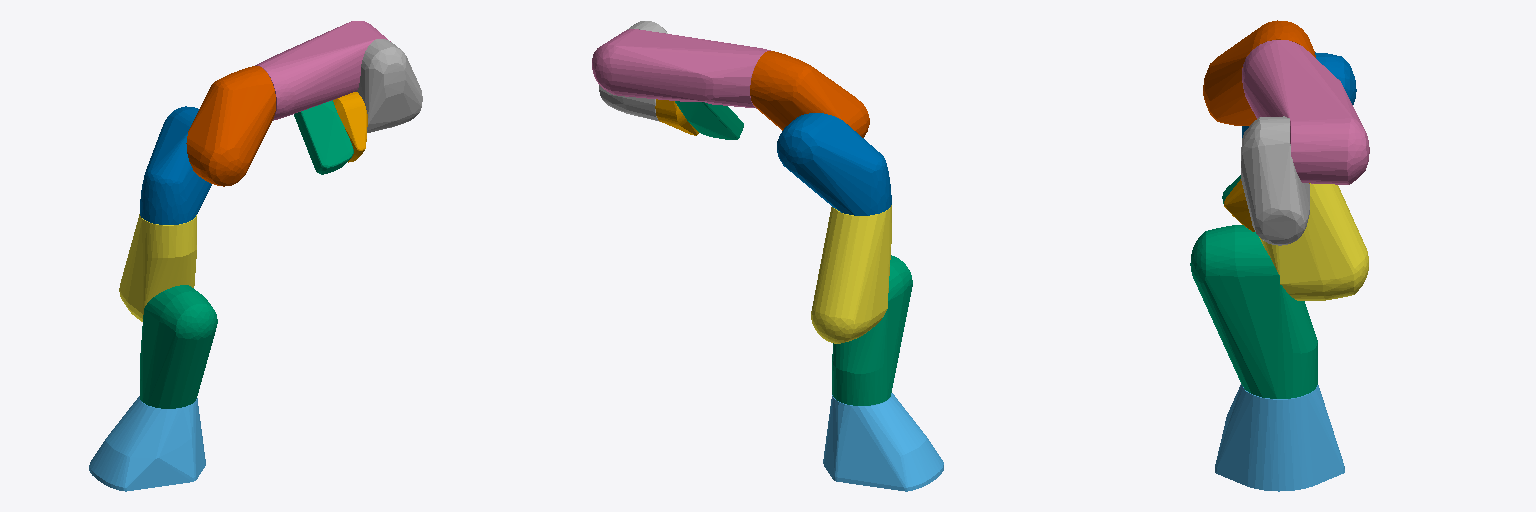
The robot description file, URDF, robot "fer":
<?xml version="1.0" ?>
<!-- =================================================================================== -->
<!-- |    This document was autogenerated by xacro from [local-path]/ws/franka/src/franka_description/robots/fer/fer.urdf.xacro | -->
<!-- |    EDITING THIS FILE BY HAND IS NOT RECOMMENDED                                 | -->
<!-- =================================================================================== -->
<robot name="fer">
  <!-- safety_distance: Minimum safety distance in [m] by which the collision volumes are expanded and which is enforced during robot motions -->
  <!-- arm_id: Namespace of the robot arm. Serves to differentiate between arms in case of multiple instances. -->
  <!-- joint_limits: description of the joint limits that comes from a YAML file. Example definition: ${xacro.load_yaml('$(find franka_description)/robots/fr3/joint_limits.yaml')} -->
  <!-- kinematics: description of the kinematics that comes from a YAML file. Example definition: ${xacro.load_yaml('$(find franka_description)/robots/fr3/kinematics.yaml')} -->
  <!-- inertials: description of the inertials that comes from a YAML file. Example definition: ${xacro.load_yaml('$(find franka_description)/robots/fr3/inertials.yaml')} -->
  <!-- dynamics: description of the dynamics that comes from a YAML file. Example definition: ${xacro.load_yaml('$(find franka_description)/robots/fr3/dynamics.yaml')} -->
  <link name="base">
      </link>
  <joint name="base_joint" type="fixed">
    <parent link="base"/>
    <child link="fer_link0"/>
    <origin rpy="0 0 0" xyz="0 0 0"/>
  </joint>
  <!-- sub-link defining detailed meshes for collision with environment -->
  <link name="fer_link0">
    <visual name="fer_link0_visual">
      <geometry>
        <mesh filename="package://franka_description/meshes/robot_arms/fer/visual/link0.dae"/>
      </geometry>
    </visual>
    
    <collision name="fer_link0_collision">
      <geometry>
        <mesh filename="package://franka_description/meshes/robot_arms/fer/collision/link0.obj"/>
      </geometry>
    </collision>
    <inertial>
      <origin rpy="0 0 0" xyz="-0.0172 0.0004 0.0745"/>
      <mass value="2.3966"/>
      <inertia ixx="0.009" ixy="0.0" ixz="0.002" iyy="0.0115" iyz="0.0" izz="0.0085"/>
    </inertial>
  </link>
  <!-- sub-link defining detailed meshes for collision with environment -->
  <link name="fer_link1">
    <visual name="fer_link1_visual">
      <geometry>
        <mesh filename="package://franka_description/meshes/robot_arms/fer/visual/link1.dae"/>
      </geometry>
    </visual>
    <collision name="fer_link1_collision">
      <geometry>
        <mesh filename="package://franka_description/meshes/robot_arms/fer/collision/link1.obj"/>
      </geometry>
    </collision>
    <inertial>
      <origin rpy="0 0 0" xyz="0.00033 -0.02204 -0.04762"/>
      <mass value="2.7907"/>
      <inertia ixx="0.01564782655" ixy="5.31236e-06" ixz="-3.676721e-05" iyy="0.01439883526" iyz="-0.00248480843" izz="0.00500443991"/>
    </inertial>
  </link>
  <joint name="fer_joint1" type="revolute">
    <origin rpy="0 0 0" xyz="0 0 0.333"/>
    <parent link="fer_link0"/>
    <child link="fer_link1"/>
    <axis xyz="0 0 1"/>
    <limit effort="87.0" lower="-2.8973" upper="2.8973" velocity="2.175"/>
    <safety_controller k_position="100.0" k_velocity="40.0" soft_lower_limit="-2.8973" soft_upper_limit="2.8973"/>
    <dynamics D="1" K="7000" damping="0.003" friction="0.2" mu_coulomb="0" mu_viscous="16"/>
  </joint>
  <!-- sub-link defining detailed meshes for collision with environment -->
  <link name="fer_link2">
    <visual name="fer_link2_visual">
      <geometry>
        <mesh filename="package://franka_description/meshes/robot_arms/fer/visual/link2.dae"/>
      </geometry>
    </visual>
    <collision name="fer_link2_collision">
      <geometry>
        <mesh filename="package://franka_description/meshes/robot_arms/fer/collision/link2.obj"/>
      </geometry>
    </collision>
    <inertial>
      <origin rpy="0 0 0" xyz="0.00038 -0.09211 0.01908"/>
      <mass value="2.542"/>
      <inertia ixx="0.01662427728" ixy="3.086077e-05" ixz="8.3594e-06" iyy="0.00462501261" iyz="0.0035589983" izz="0.01545124526"/>
    </inertial>
  </link>
  <joint name="fer_joint2" type="revolute">
    <origin rpy="-1.570796326794897 0 0" xyz="0 0 0"/>
    <parent link="fer_link1"/>
    <child link="fer_link2"/>
    <axis xyz="0 0 1"/>
    <limit effort="87.0" lower="-1.7628" upper="1.7628" velocity="2.175"/>
    <safety_controller k_position="100.0" k_velocity="40.0" soft_lower_limit="-1.7628" soft_upper_limit="1.7628"/>
    <dynamics D="1" K="7000" damping="0.003" friction="0.2" mu_coulomb="0" mu_viscous="16"/>
  </joint>
  <!-- sub-link defining detailed meshes for collision with environment -->
  <link name="fer_link3">
    <visual name="fer_link3_visual">
      <geometry>
        <mesh filename="package://franka_description/meshes/robot_arms/fer/visual/link3.dae"/>
      </geometry>
    </visual>
    <collision name="fer_link3_collision">
      <geometry>
        <mesh filename="package://franka_description/meshes/robot_arms/fer/collision/link3.obj"/>
      </geometry>
    </collision>
    <inertial>
      <origin rpy="0 0 0" xyz="0.05152 0.01696 -0.02971"/>
      <mass value="2.2513"/>
      <inertia ixx="0.00631741992" ixy="0.00097309955" ixz="0.00292525834" iyy="0.00866285493" iyz="0.00093469224" izz="0.00657804051"/>
    </inertial>
  </link>
  <joint name="fer_joint3" type="revolute">
    <origin rpy="1.570796326794897 0 0" xyz="0 -0.316 0"/>
    <parent link="fer_link2"/>
    <child link="fer_link3"/>
    <axis xyz="0 0 1"/>
    <limit effort="87.0" lower="-2.8973" upper="2.8973" velocity="2.175"/>
    <safety_controller k_position="100.0" k_velocity="40.0" soft_lower_limit="-2.8973" soft_upper_limit="2.8973"/>
    <dynamics D="1" K="7000" damping="0.003" friction="0.2" mu_coulomb="0" mu_viscous="16"/>
  </joint>
  <!-- sub-link defining detailed meshes for collision with environment -->
  <link name="fer_link4">
    <visual name="fer_link4_visual">
      <geometry>
        <mesh filename="package://franka_description/meshes/robot_arms/fer/visual/link4.dae"/>
      </geometry>
    </visual>
    <collision name="fer_link4_collision">
      <geometry>
        <mesh filename="package://franka_description/meshes/robot_arms/fer/collision/link4.obj"/>
      </geometry>
    </collision>
    <inertial>
      <origin rpy="0 0 0" xyz="-0.05113 0.05825 0.01698"/>
      <mass value="2.2037"/>
      <inertia ixx="0.03452998321913202" ixy="0.01322552265982813" ixz="0.01015142998484113" iyy="0.028881621933049058" iyz="-0.0009762833870704552" izz="0.04125471171146641"/>
    </inertial>
  </link>
  <joint name="fer_joint4" type="revolute">
    <origin rpy="1.570796326794897 0 0" xyz="0.0825 0 0"/>
    <parent link="fer_link3"/>
    <child link="fer_link4"/>
    <axis xyz="0 0 1"/>
    <limit effort="87.0" lower="-3.0718" upper="-0.0698" velocity="2.175"/>
    <safety_controller k_position="100.0" k_velocity="40.0" soft_lower_limit="-3.0718" soft_upper_limit="-0.0698"/>
    <dynamics D="1" K="7000" damping="0.003" friction="0.2" mu_coulomb="0" mu_viscous="16"/>
  </joint>
  <!-- sub-link defining detailed meshes for collision with environment -->
  <link name="fer_link5">
    <visual name="fer_link5_visual">
      <geometry>
        <mesh filename="package://franka_description/meshes/robot_arms/fer/visual/link5.dae"/>
      </geometry>
    </visual>
    <collision name="fer_link5_collision">
      <geometry>
        <mesh filename="package://franka_description/meshes/robot_arms/fer/collision/link5.obj"/>
      </geometry>
    </collision>
    <inertial>
      <origin rpy="0 0 0" xyz="-0.00005 0.03730 -0.09280"/>
      <mass value="2.2855"/>
      <inertia ixx="0.02297014781" ixy="-9.49345e-06" ixz="-2.063156e-05" iyy="0.02095060919" iyz="0.00382345782" izz="0.00430606551"/>
    </inertial>
  </link>
  <joint name="fer_joint5" type="revolute">
    <origin rpy="-1.570796326794897 0 0" xyz="-0.0825 0.384 0"/>
    <parent link="fer_link4"/>
    <child link="fer_link5"/>
    <axis xyz="0 0 1"/>
    <limit effort="12.0" lower="-2.8973" upper="2.8973" velocity="2.61"/>
    <safety_controller k_position="100.0" k_velocity="40.0" soft_lower_limit="-2.8973" soft_upper_limit="2.8973"/>
    <dynamics D="1" K="7000" damping="0.003" friction="0.2" mu_coulomb="0" mu_viscous="16"/>
  </joint>
  <!-- sub-link defining detailed meshes for collision with environment -->
  <link name="fer_link6">
    <visual name="fer_link6_visual">
      <geometry>
        <mesh filename="package://franka_description/meshes/robot_arms/fer/visual/link6.dae"/>
      </geometry>
    </visual>
    <collision name="fer_link6_collision">
      <geometry>
        <mesh filename="package://franka_description/meshes/robot_arms/fer/collision/link6.obj"/>
      </geometry>
    </collision>
    <inertial>
      <origin rpy="0 0 0" xyz="0.06572 -0.00371 0.00153"/>
      <mass value="1.353"/>
      <inertia ixx="0.00087964522" ixy="-0.00021487814" ixz="-0.00011911662" iyy="0.00277796968" iyz="1.274322e-05" izz="0.00286701969"/>
    </inertial>
  </link>
  <joint name="fer_joint6" type="revolute">
    <origin rpy="1.570796326794897 0 0" xyz="0 0 0"/>
    <parent link="fer_link5"/>
    <child link="fer_link6"/>
    <axis xyz="0 0 1"/>
    <limit effort="12.0" lower="-0.0175" upper="3.7525" velocity="2.61"/>
    <safety_controller k_position="100.0" k_velocity="40.0" soft_lower_limit="-0.0175" soft_upper_limit="3.7525"/>
    <dynamics D="1" K="7000" damping="0.003" friction="0.2" mu_coulomb="0" mu_viscous="16"/>
  </joint>
  <!-- sub-link defining detailed meshes for collision with environment -->
  <link name="fer_link7">
    <visual name="fer_link7_visual">
      <geometry>
        <mesh filename="package://franka_description/meshes/robot_arms/fer/visual/link7.dae"/>
      </geometry>
    </visual>
    <collision name="fer_link7_collision">
      <geometry>
        <mesh filename="package://franka_description/meshes/robot_arms/fer/collision/link7.obj"/>
      </geometry>
    </collision>
    <inertial>
      <origin rpy="0 0 0" xyz="0.00089 -0.00044 0.05491"/>
      <mass value="0.35973"/>
      <inertia ixx="0.00019541063" ixy="1.65231e-06" ixz="1.48826e-06" iyy="0.00019210361" iyz="-1.31132e-06" izz="0.00017936256"/>
    </inertial>
  </link>
  <joint name="fer_joint7" type="revolute">
    <origin rpy="1.570796326794897 0 0" xyz="0.088 0 0"/>
    <parent link="fer_link6"/>
    <child link="fer_link7"/>
    <axis xyz="0 0 1"/>
    <limit effort="12.0" lower="-2.8973" upper="2.8973" velocity="2.61"/>
    <safety_controller k_position="100.0" k_velocity="40.0" soft_lower_limit="-2.8973" soft_upper_limit="2.8973"/>
    <dynamics D="1" K="7000" damping="0.003" friction="0.2" mu_coulomb="0" mu_viscous="16"/>
  </joint>
  <link name="fer_link8"/>
  <joint name="fer_joint8" type="fixed">
    <origin rpy="0 0 0" xyz="0 0 0.107"/>
    <parent link="fer_link7"/>
    <child link="fer_link8"/>
  </joint>
  <joint name="fer_hand_joint" type="fixed">
    <parent link="fer_link8"/>
    <child link="fer_hand"/>
    <origin rpy="0 0 -0.7853981633974483" xyz="0 0 0"/>
  </joint>
  <!-- sub-link defining detailed meshes for collision with environment -->
  <link name="fer_hand">
    <visual name="fer_hand_visual">
      <geometry>
        <mesh filename="package://franka_description/meshes/robot_ee/franka_hand_white/visual/hand.dae"/>
      </geometry>
    </visual>
    <collision name="fer_hand_collision">
      <geometry>
        <mesh filename="package://franka_description/meshes/robot_ee/franka_hand_white/collision/hand.obj"/>
      </geometry>
    </collision> 
    <inertial>
      <origin rpy="0 0 0" xyz="-0.01 0 0.03"/>
      <mass value="0.73"/>
      <inertia ixx="0.001" ixy="0" ixz="0" iyy="0.0025" iyz="0" izz="0.0017"/>
    </inertial>
  </link>
  <!-- Define the hand_tcp frame -->
  <link name="fer_hand_tcp"/>
  <joint name="fer_hand_tcp_joint" type="fixed">
    <origin rpy="0 0 0" xyz="0 0 0.1034"/>
    <parent link="fer_hand"/>
    <child link="fer_hand_tcp"/>
  </joint>
  <link name="fer_leftfinger">
    <visual name="fer_leftfinger_visual">
      <geometry>
        <mesh filename="package://franka_description/meshes/robot_ee/franka_hand_white/visual/finger.dae"/>
      </geometry>
    </visual>
    <!-- screw mount -->
    <collision>
      <origin rpy="0 0 0" xyz="0 18.5e-3 11e-3"/>
      <geometry>
        <box size="22e-3 15e-3 20e-3"/>
      </geometry>
    </collision>
    <!-- cartriage sledge -->
    <collision>
      <origin rpy="0 0 0" xyz="0 6.8e-3 2.2e-3"/>
      <geometry>
        <box size="22e-3 8.8e-3 3.8e-3"/>
      </geometry>
    </collision>
    <!-- diagonal finger -->
    <collision>
      <origin rpy="0.5235987755982988 0 0" xyz="0 15.9e-3 28.35e-3"/>
      <geometry>
        <box size="17.5e-3 7e-3 23.5e-3"/>
      </geometry>
    </collision>
    <!-- rubber tip with which to grasp -->
    <collision>
      <origin rpy="0 0 0" xyz="0 7.58e-3 45.25e-3"/>
      <geometry>
        <box size="17.5e-3 15.2e-3 18.5e-3"/>
      </geometry>
    </collision>
    <inertial>
      <mass value="0.01"/>
      <inertia ixx="1e-5" iyy="1e-5" izz="1e-5" ixy="0" ixz="0" iyz="0"/>
    </inertial>
  </link>
  <link name="fer_rightfinger">
    <visual name="fer_rightfinger_visual">
      <origin rpy="0 0 3.141592653589793" xyz="0 0 0"/>
      <geometry>
        <mesh filename="package://franka_description/meshes/robot_ee/franka_hand_white/visual/finger.dae"/>
      </geometry>
    </visual>
    <!-- screw mount -->
    <collision>
      <origin rpy="0 0 0" xyz="0 -18.5e-3 11e-3"/>
      <geometry>
        <box size="22e-3 15e-3 20e-3"/>
      </geometry>
    </collision>
    <!-- cartriage sledge -->
    <collision>
      <origin rpy="0 0 0" xyz="0 -6.8e-3 2.2e-3"/>
      <geometry>
        <box size="22e-3 8.8e-3 3.8e-3"/>
      </geometry>
    </collision>
    <!-- diagonal finger -->
    <collision>
      <origin rpy="-0.5235987755982988 0 0" xyz="0 -15.9e-3 28.35e-3"/>
      <geometry>
        <box size="17.5e-3 7e-3 23.5e-3"/>
      </geometry>
    </collision>
    <!-- rubber tip with which to grasp -->
    <collision>
      <origin rpy="0 0 0" xyz="0 -7.58e-3 45.25e-3"/>
      <geometry>
        <box size="17.5e-3 15.2e-3 18.5e-3"/>
      </geometry>
    </collision>
    <inertial>
      <mass value="0.01"/>
      <inertia ixx="1e-5" iyy="1e-5" izz="1e-5" ixy="0" ixz="0" iyz="0"/>
    </inertial>
  </link>
  <joint name="fer_finger_joint1" type="prismatic">
    <parent link="fer_hand"/>
    <child link="fer_leftfinger"/>
    <origin rpy="0 0 0" xyz="0 0 0.0584"/>
    <axis xyz="0 1 0"/>
    <limit effort="100" lower="0.0" upper="0.04" velocity="0.2"/>
    <dynamics damping="0.3"/>
  </joint>
  <joint name="fer_finger_joint2" type="prismatic">
    <parent link="fer_hand"/>
    <child link="fer_rightfinger"/>
    <origin rpy="0 0 0" xyz="0 0 0.0584"/>
    <axis xyz="0 -1 0"/>
    <limit effort="100" lower="0.0" upper="0.04" velocity="0.2"/>
    <mimic joint="fer_finger_joint1"/>
    <dynamics damping="0.3"/>
  </joint>
</robot>

--- What the picture shows (computed from the rendered views, not written in the file) ---
Views: 3 orthographic renders of the robot side by side, from view 1: azimuth 30°, elevation 25°; view 2: azimuth 150°, elevation 25°; view 3: azimuth 270°, elevation 25°.
Model fer with 14 links and 13 joints (7 revolute, 2 prismatic, 4 fixed), rooted at base, posed all joints at 0 but 1 set to mid-range because 0 is outside their limits (fer_joint4 = -1.57).
Visible links, largest first — view 1: fer_link0, fer_link1, fer_link4, fer_link5, fer_link3, fer_link2, fer_link6, fer_hand, fer_link7; view 2: fer_link5, fer_link2, fer_link0, fer_link3, fer_link1, fer_link4, fer_hand, fer_link6, fer_link7; view 3: fer_link1, fer_link5, fer_link0, fer_link2, fer_link6, fer_link4, fer_link3, fer_link7.
Link boxes in pixels (x1,y1,x2,y2): fer_link0: (89,396,205,491); fer_link1: (140,285,217,408); fer_link4: (186,66,275,186); fer_link5: (255,21,390,120); fer_link3: (140,106,211,224); fer_link2: (119,214,196,321); fer_link6: (356,39,422,132); fer_hand: (294,100,353,174); fer_link7: (333,92,367,162); fer_link5: (592,29,770,108); fer_link2: (811,205,891,343); fer_link0: (823,393,943,491); fer_link3: (777,113,891,215); fer_link1: (832,255,912,405); fer_link4: (750,51,869,137); fer_hand: (675,101,743,139); fer_link6: (599,21,667,121); fer_link7: (655,99,698,135); fer_link1: (1190,225,1317,398); fer_link5: (1242,40,1369,184); fer_link0: (1215,384,1344,491); fer_link2: (1259,183,1368,300); fer_link6: (1241,116,1309,245); fer_link4: (1203,20,1315,125); fer_link3: (1242,52,1356,137); fer_link7: (1224,179,1309,231).
Size in the robot's own frame: 0.7023 by 0.2593 by 0.7866 metres.
Meshes: 10 distinct files referenced, 9 mesh visuals loaded (9 Collada DAE); not drawn: 2 (reference not matched to a file when rendering).
